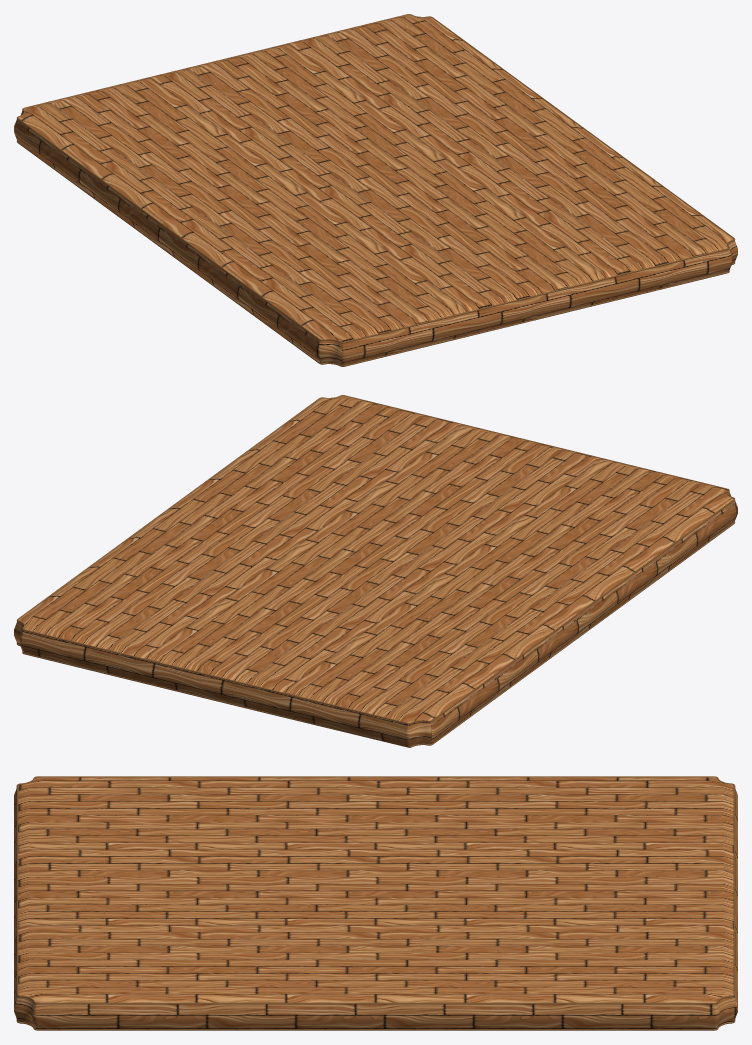
Rendered from SM_FoamFloor_3x4.fbx.
The picture shows the model from 3 angles, top to bottom: view 1: azimuth 30°, elevation 25°; view 2: azimuth 150°, elevation 25°; view 3: azimuth 270°, elevation 25°; orthographic projection. The views are drawn at different scales.
Visible parts, largest first — view 1: SM_SoftFoam_Floor_20cm_3x4; view 2: SM_SoftFoam_Floor_20cm_3x4; view 3: SM_SoftFoam_Floor_20cm_3x4.
Part boxes in pixels (x1=…): SM_SoftFoam_Floor_20cm_3x4: x1=14, y1=14, x2=737, y2=366; SM_SoftFoam_Floor_20cm_3x4: x1=14, y1=395, x2=737, y2=747; SM_SoftFoam_Floor_20cm_3x4: x1=14, y1=776, x2=737, y2=1030.
Bounding box in the file's own units: 300 × 20 × 400.
